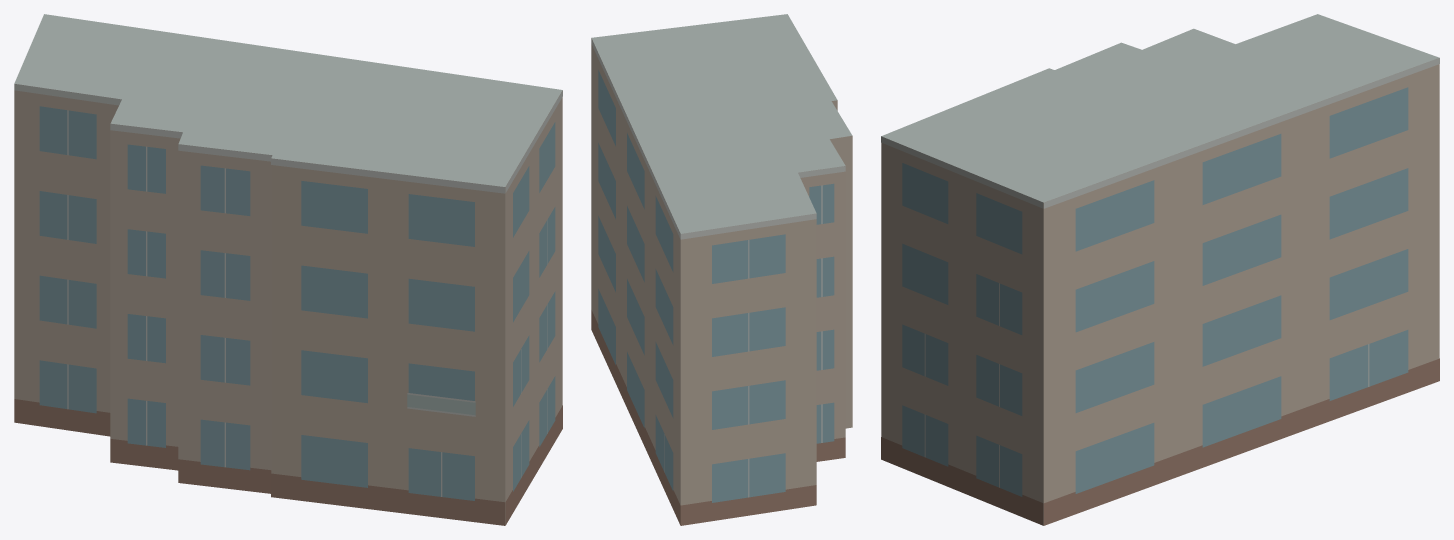
File: survey-upis-32961595.glb
3 renders of one model, left to right at view 1: azimuth 30°, elevation 25°; view 2: azimuth 150°, elevation 25°; view 3: azimuth 270°, elevation 25°, orthographic. The views are drawn at different scales.
Parts seen in each view (by area): view 1: survey-upis-32961595.tmp; view 2: survey-upis-32961595.tmp; view 3: survey-upis-32961595.tmp.
Boxes of the visible parts, x1,y1,x2,y2 form: survey-upis-32961595.tmp: (14,14,562,525); survey-upis-32961595.tmp: (591,14,852,525); survey-upis-32961595.tmp: (881,14,1439,525).
Size of the model in its own units: 15.7 by 12.54 by 19.64.
